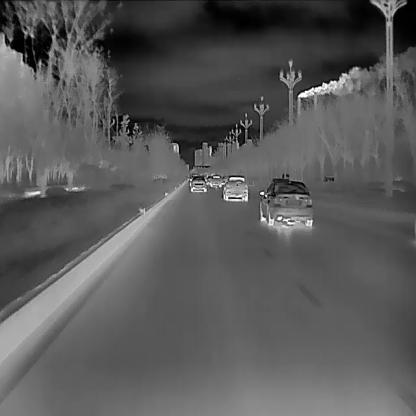car: (258, 178, 312, 227), (223, 175, 248, 200), (190, 176, 205, 192), (210, 175, 221, 187)
